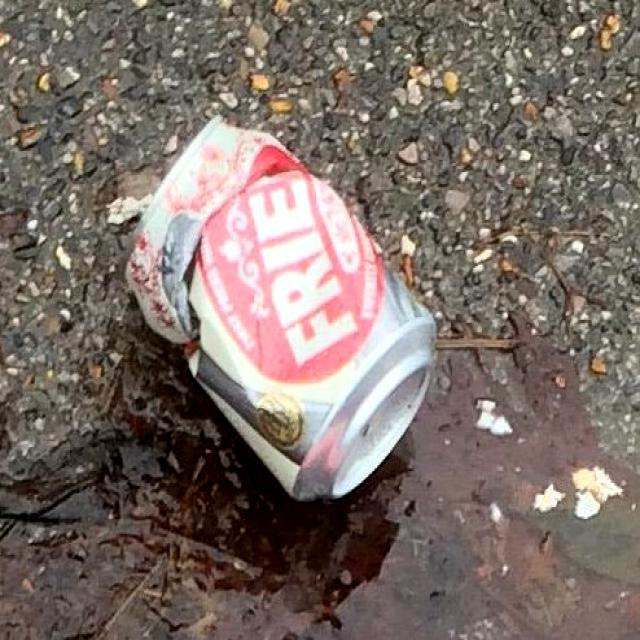Metal: (80, 84, 479, 536)
